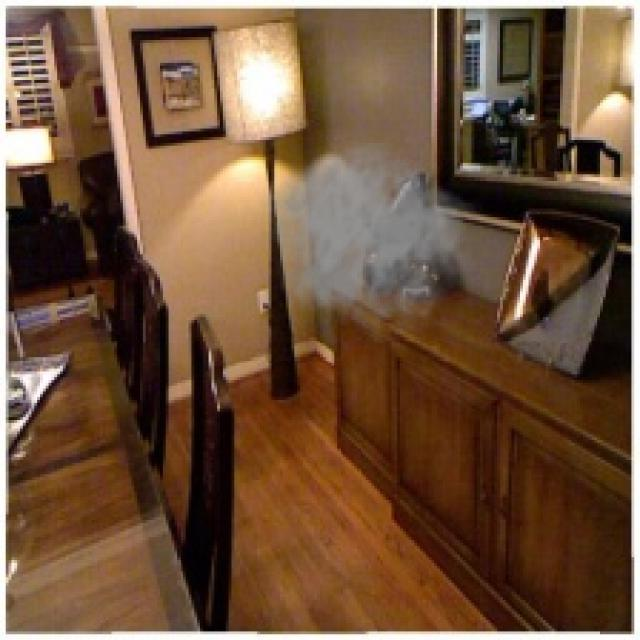Smoke: (263, 140, 483, 346)
